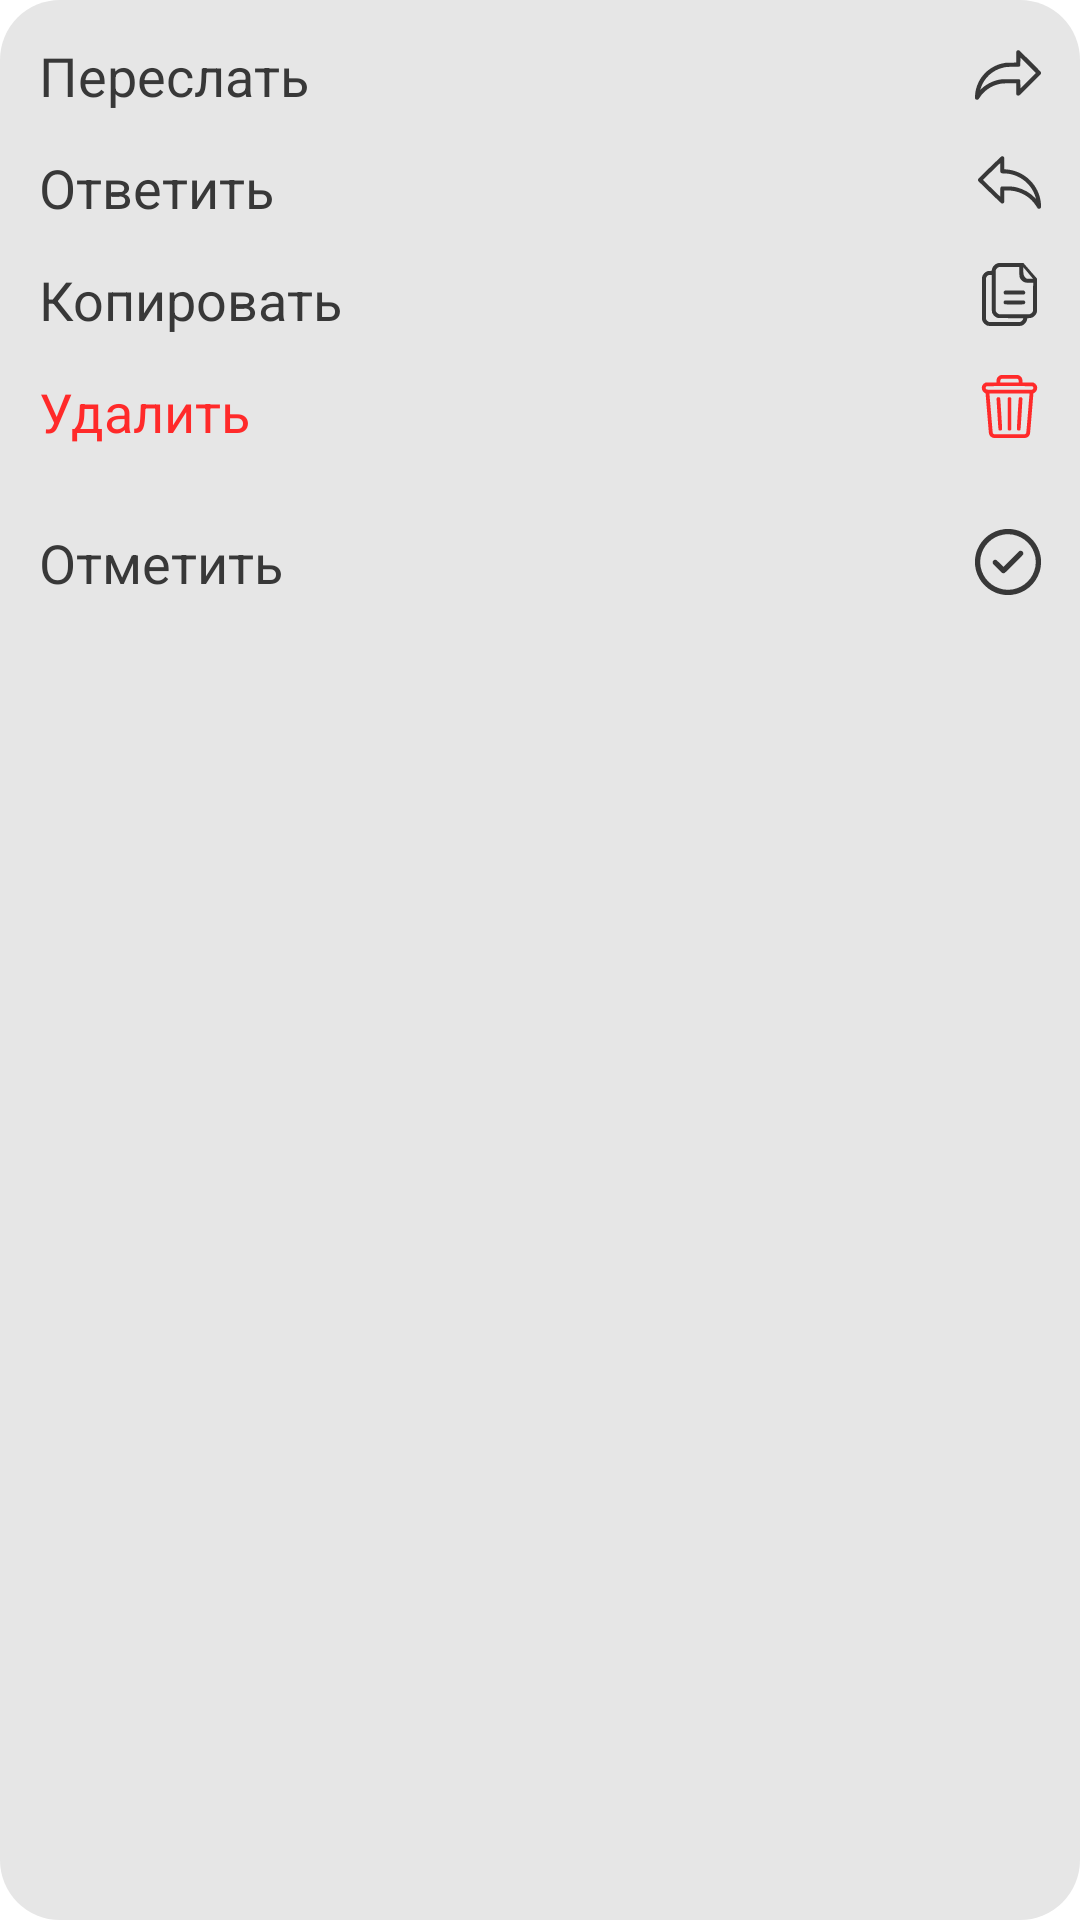

Named icons in this screenshot (1080px x 1920px) and their centers, [x,y]:
answer: [1009,182]
bin: [1009,406]
mark: [1008,562]
